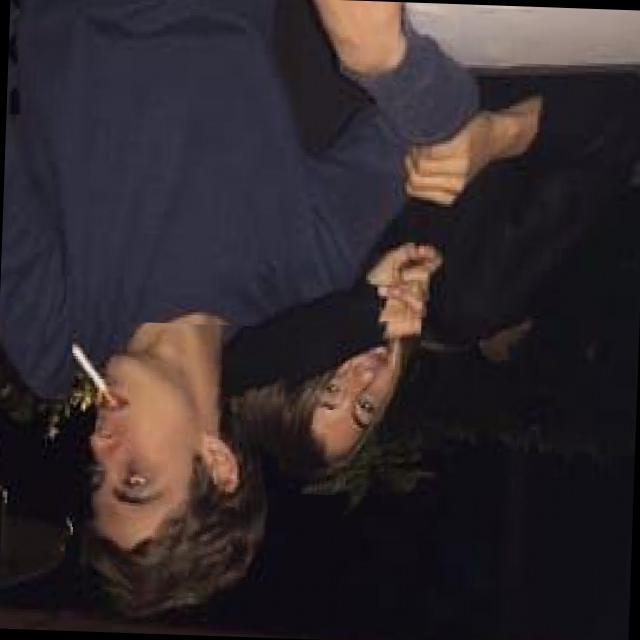cigarette: (70, 346, 136, 430)
